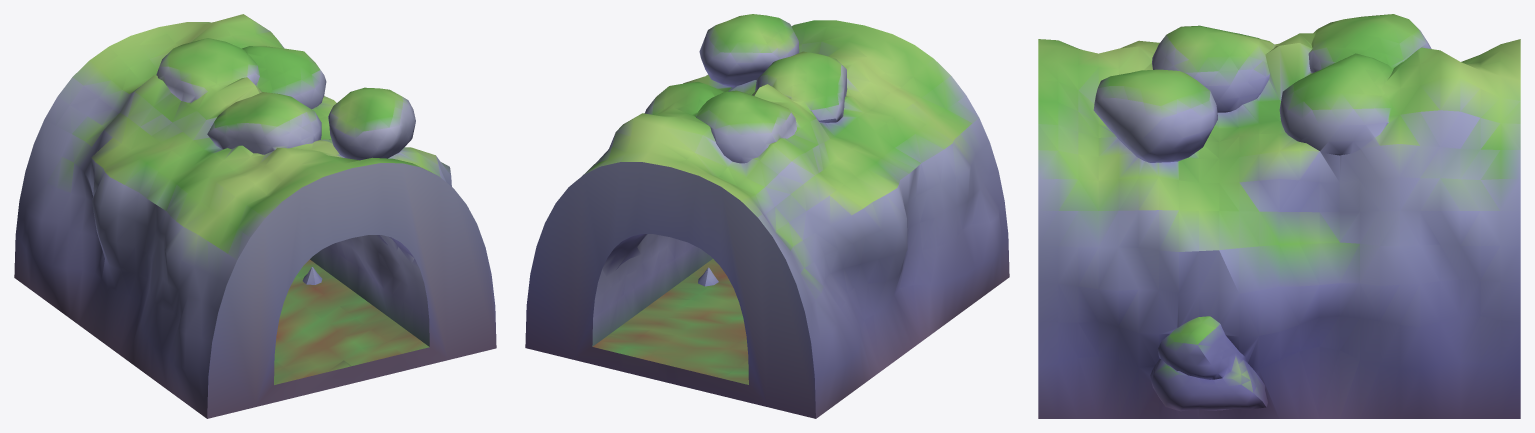
File: verdant_cave_tunnel.glb
3 views of the same model, side by side, from view 1: azimuth 30°, elevation 25°; view 2: azimuth 150°, elevation 25°; view 3: azimuth 270°, elevation 25° (orthographic). The views are drawn at different scales.
Parts seen in each view (by area): view 1: verdant_cave_tunnel; view 2: verdant_cave_tunnel; view 3: verdant_cave_tunnel.
Part boxes in pixels (box(x1,y1,x2,y2)): verdant_cave_tunnel: box(14, 14, 496, 418); verdant_cave_tunnel: box(525, 14, 1009, 418); verdant_cave_tunnel: box(1038, 14, 1520, 418).
Size of the model in its own units: 12.03 by 8.37 by 12.
